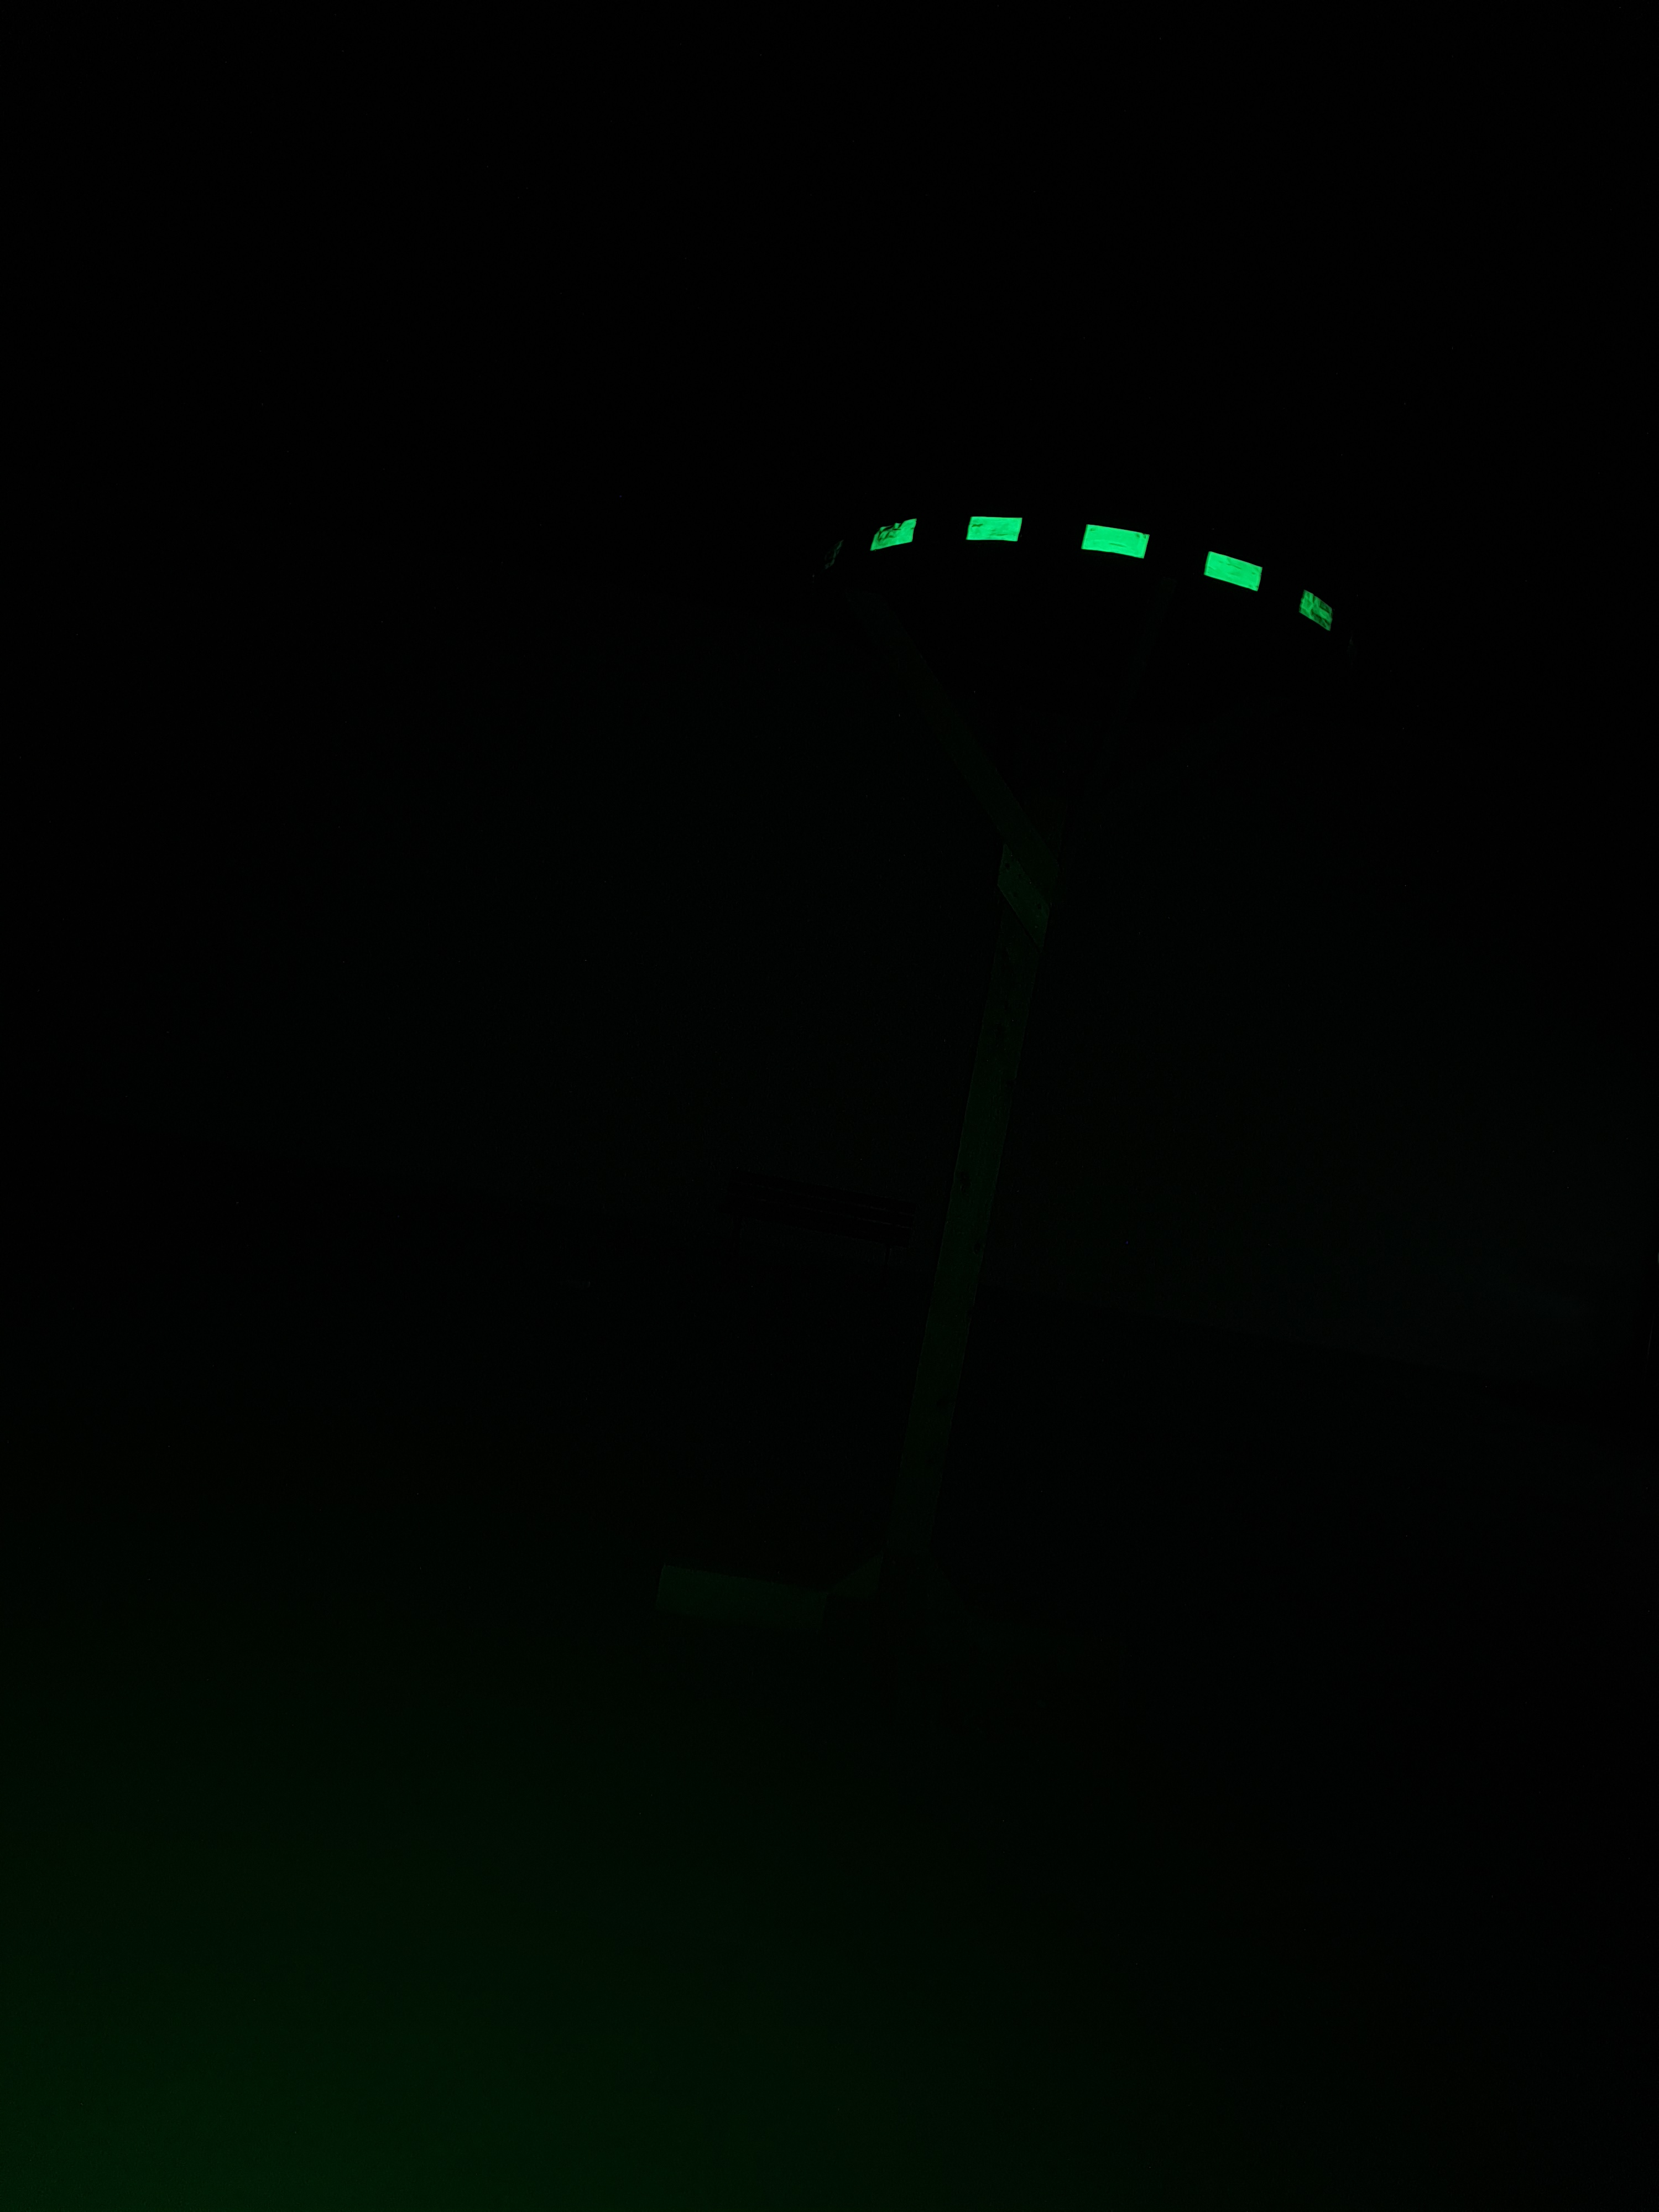hoop: (868, 512, 1333, 632)
